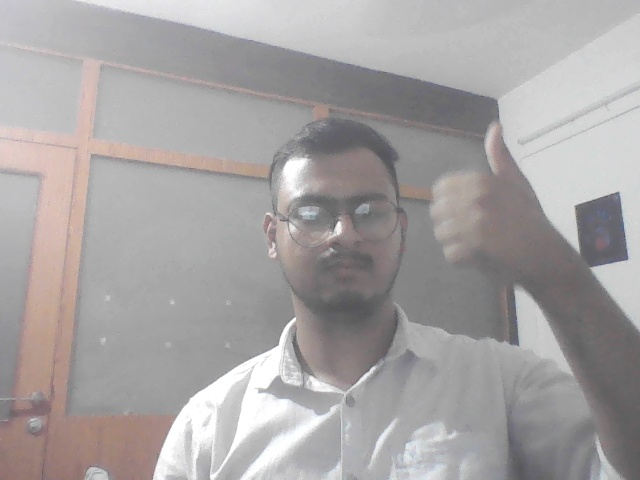Good: (418, 109, 542, 292)
